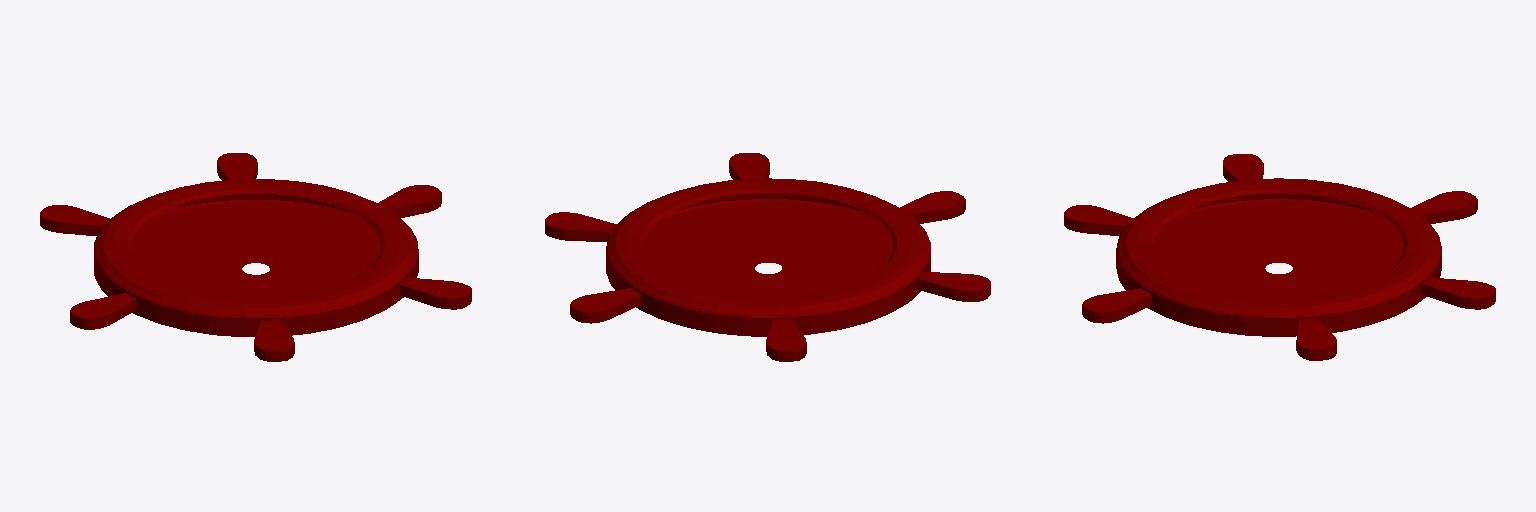
File: meja2-2.obj
The picture shows the model from 3 angles: view 1: azimuth 30°, elevation 25°; view 2: azimuth 150°, elevation 25°; view 3: azimuth 270°, elevation 25°; orthographic projection.
Parts seen in each view (by area): view 1: Cube.002_Cube.367_Cube.002_Cube.007; view 2: Cube.002_Cube.367_Cube.002_Cube.007; view 3: Cube.002_Cube.367_Cube.002_Cube.007.
Part boxes in pixels (bbox=[...]): Cube.002_Cube.367_Cube.002_Cube.007: bbox=[40, 153, 471, 361]; Cube.002_Cube.367_Cube.002_Cube.007: bbox=[545, 153, 990, 361]; Cube.002_Cube.367_Cube.002_Cube.007: bbox=[1064, 154, 1495, 360].
Bounding box in the file's own units: 5.53 × 0.3525 × 5.15.